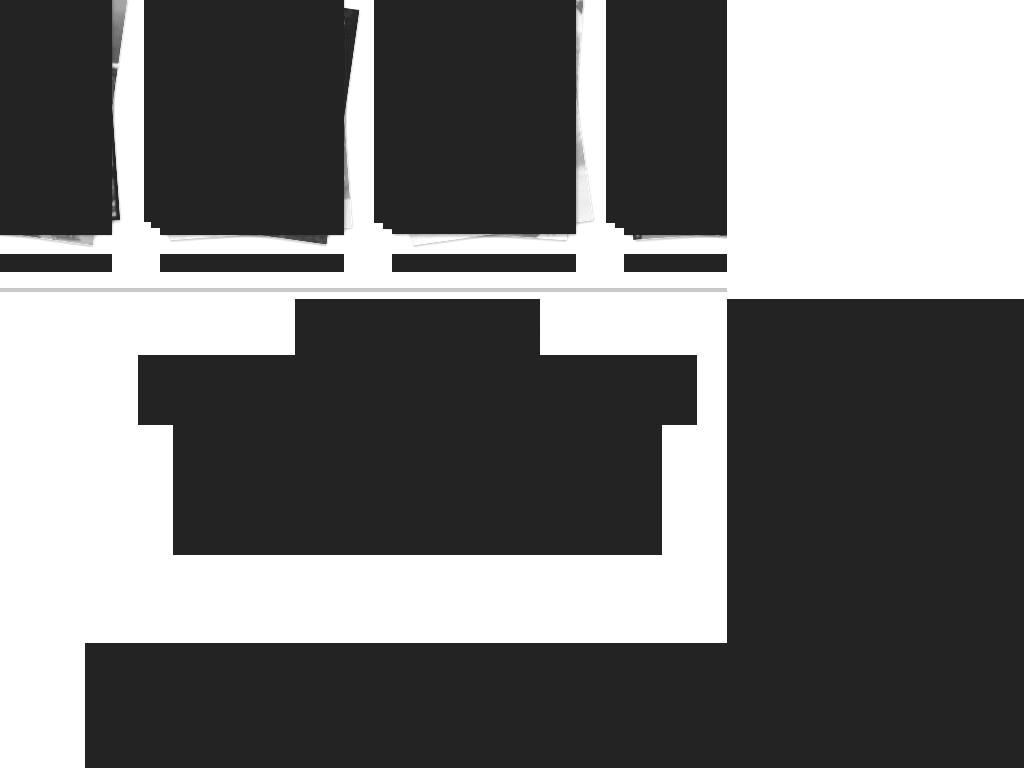button: (160, 0, 344, 234), (160, 0, 344, 234), (160, 0, 344, 234), (392, 0, 576, 234), (392, 0, 576, 234), (392, 0, 576, 234), (0, 0, 112, 234), (0, 0, 112, 234), (0, 0, 112, 234), (624, 0, 727, 234), (624, 0, 727, 234), (624, 0, 727, 234), (160, 254, 344, 272), (392, 254, 576, 272), (0, 254, 112, 272), (624, 254, 727, 272)
heading: (173, 420, 662, 555), (727, 404, 1024, 561), (138, 355, 697, 425), (295, 299, 540, 360)
image: (727, 299, 1024, 768), (85, 643, 727, 768), (160, 0, 344, 235), (392, 0, 576, 234), (383, 0, 568, 229), (151, 0, 336, 228), (374, 0, 559, 223), (144, 0, 329, 222), (606, 0, 727, 223), (0, 0, 112, 235), (615, 0, 727, 228), (624, 0, 727, 235), (0, 0, 104, 221), (0, 0, 95, 223)
text: (727, 562, 973, 625)
